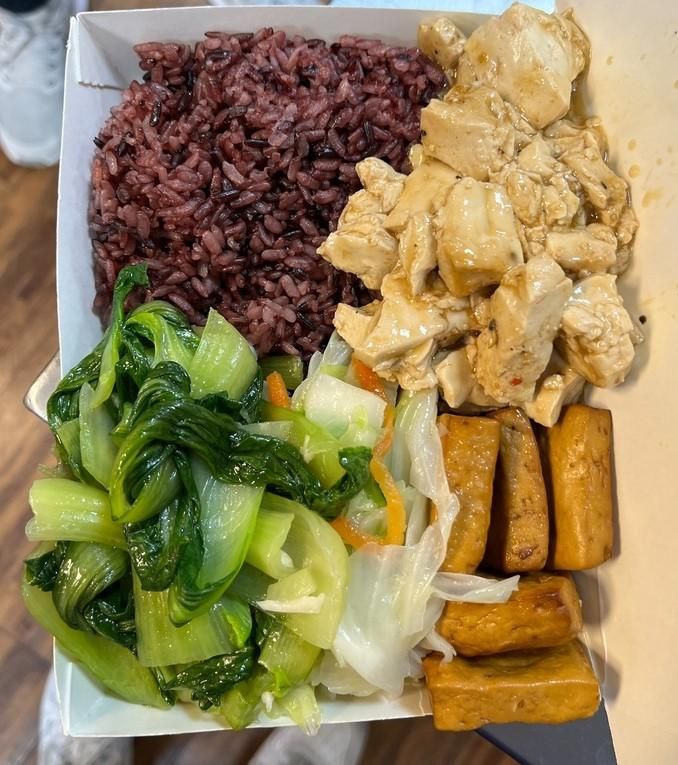big grilled chicken leg: (19, 0, 641, 752)
braised fish: (95, 32, 447, 355)
braised fish fillet: (25, 285, 350, 726), (334, 4, 647, 413), (428, 410, 621, 734), (307, 350, 450, 691)
